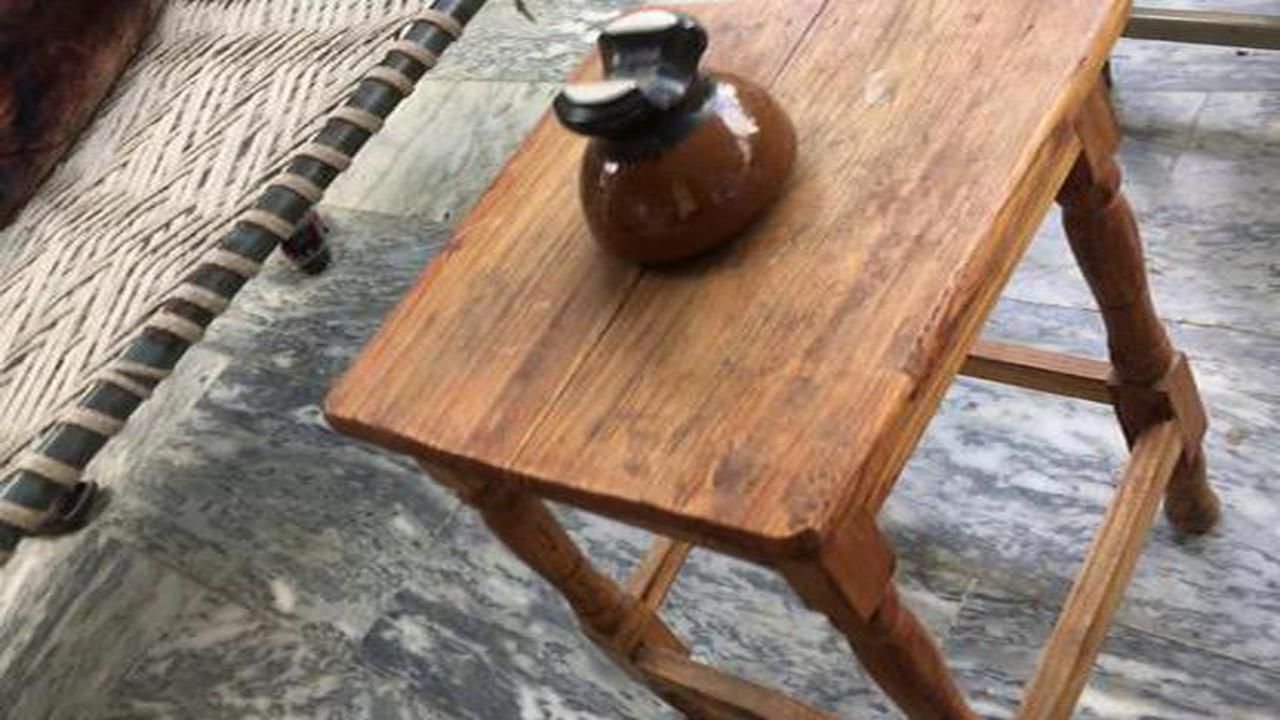insulator_pin: (536, 6, 813, 295)
